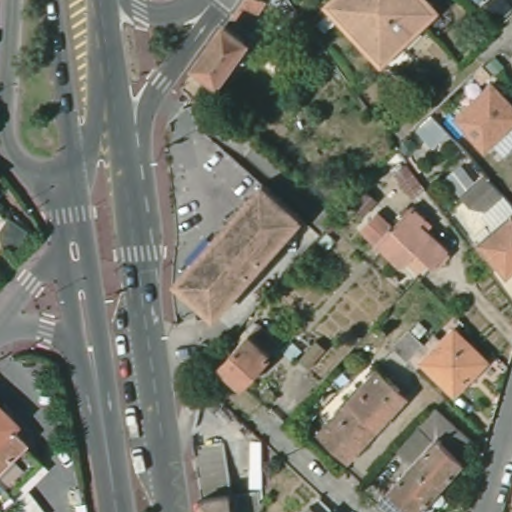pool: (442, 108, 471, 145)
